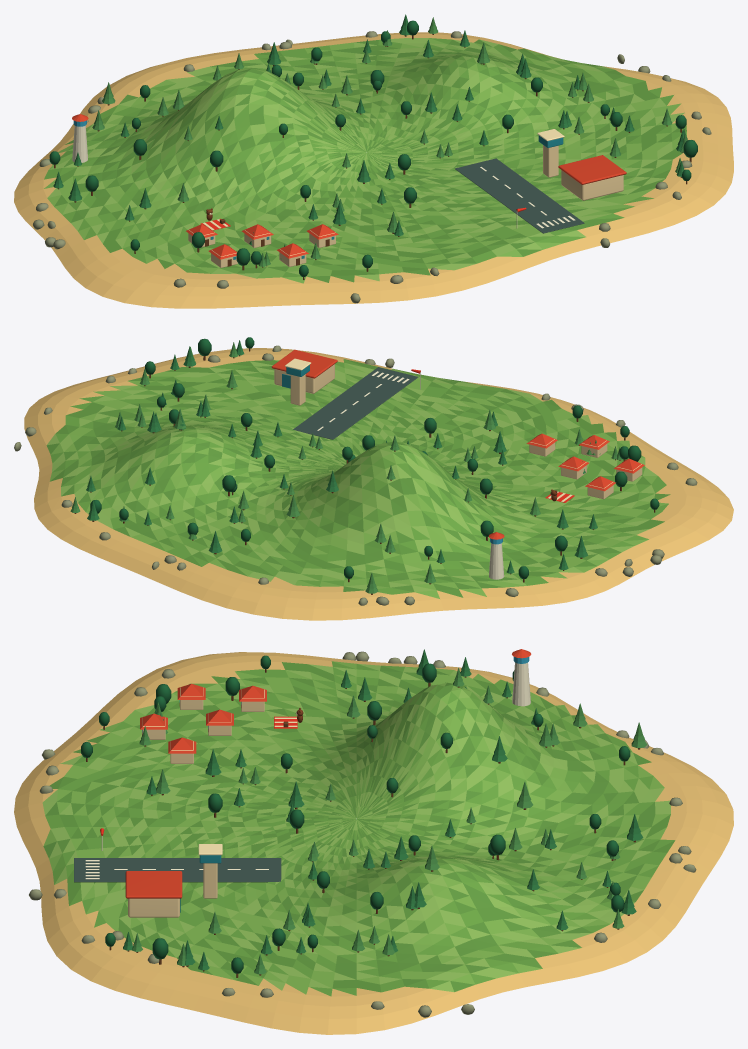
Rendered from sunny-island.glb.
The picture shows the model from 3 angles, top to bottom: view 1: azimuth 30°, elevation 25°; view 2: azimuth 150°, elevation 25°; view 3: azimuth 270°, elevation 25°; orthographic projection. The views are drawn at different scales.
Visible parts, largest first — view 1: Peach sand, Leaf 0, Runway, Leaf 1, Leaf 2, Terracotta roofs, Buttercream walls, Warm rock, Chalk, Cinnamon wood; view 2: Peach sand, Leaf 0, Runway, Leaf 1, Leaf 2, Terracotta roofs, Buttercream walls, Warm rock, Chalk; view 3: Peach sand, Leaf 0, Leaf 1, Leaf 2, Runway, Terracotta roofs, Buttercream walls, Warm rock, Chalk.
Boxes of the visible parts, bbox=[...] form: Peach sand: bbox=[14, 32, 733, 308]; Leaf 0: bbox=[49, 20, 697, 276]; Runway: bbox=[455, 158, 584, 233]; Leaf 1: bbox=[53, 14, 687, 245]; Leaf 2: bbox=[92, 17, 687, 266]; Terracotta roofs: bbox=[72, 114, 626, 259]; Buttercream walls: bbox=[188, 145, 623, 267]; Warm rock: bbox=[33, 31, 711, 303]; Chalk: bbox=[72, 125, 575, 228]; Cinnamon wood: bbox=[54, 34, 691, 279]; Peach sand: bbox=[24, 348, 733, 620]; Leaf 0: bbox=[90, 337, 659, 578]; Runway: bbox=[293, 367, 418, 439]; Leaf 1: bbox=[86, 340, 597, 573]; Leaf 2: bbox=[70, 342, 622, 593]; Terracotta roofs: bbox=[271, 349, 644, 539]; Buttercream walls: bbox=[274, 364, 642, 499]; Warm rock: bbox=[14, 345, 697, 605]; Chalk: bbox=[317, 371, 504, 579]; Peach sand: bbox=[14, 652, 733, 1034]; Leaf 0: bbox=[81, 655, 630, 973]; Leaf 1: bbox=[123, 649, 643, 970]; Leaf 2: bbox=[132, 667, 647, 974]; Runway: bbox=[74, 858, 281, 882]; Terracotta roofs: bbox=[125, 649, 531, 898]; Buttercream walls: bbox=[128, 687, 264, 917]; Warm rock: bbox=[29, 651, 696, 1017]; Chalk: bbox=[85, 662, 530, 879].
Size of the model in its own units: 192 by 29.64 by 153.
